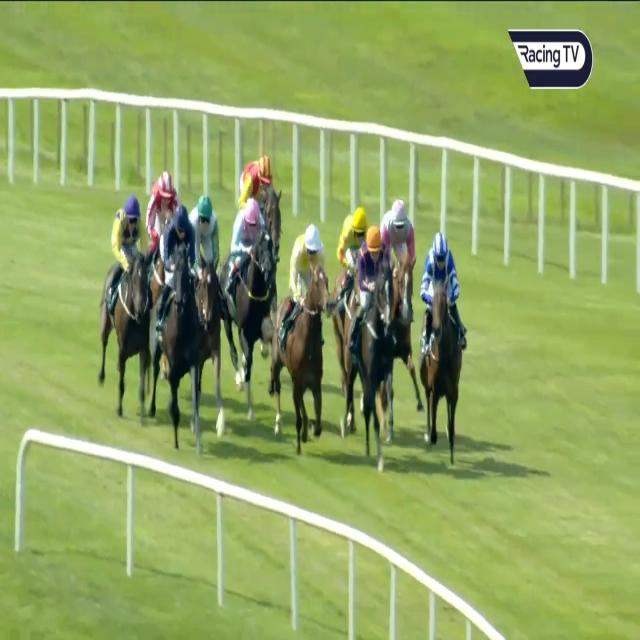horses-racing: (338, 220, 392, 447), (270, 227, 331, 426), (221, 199, 272, 405), (102, 200, 150, 414), (422, 229, 464, 464), (155, 203, 194, 444), (386, 200, 420, 377), (194, 195, 223, 340), (139, 168, 185, 243), (329, 198, 368, 284), (239, 147, 279, 222)
